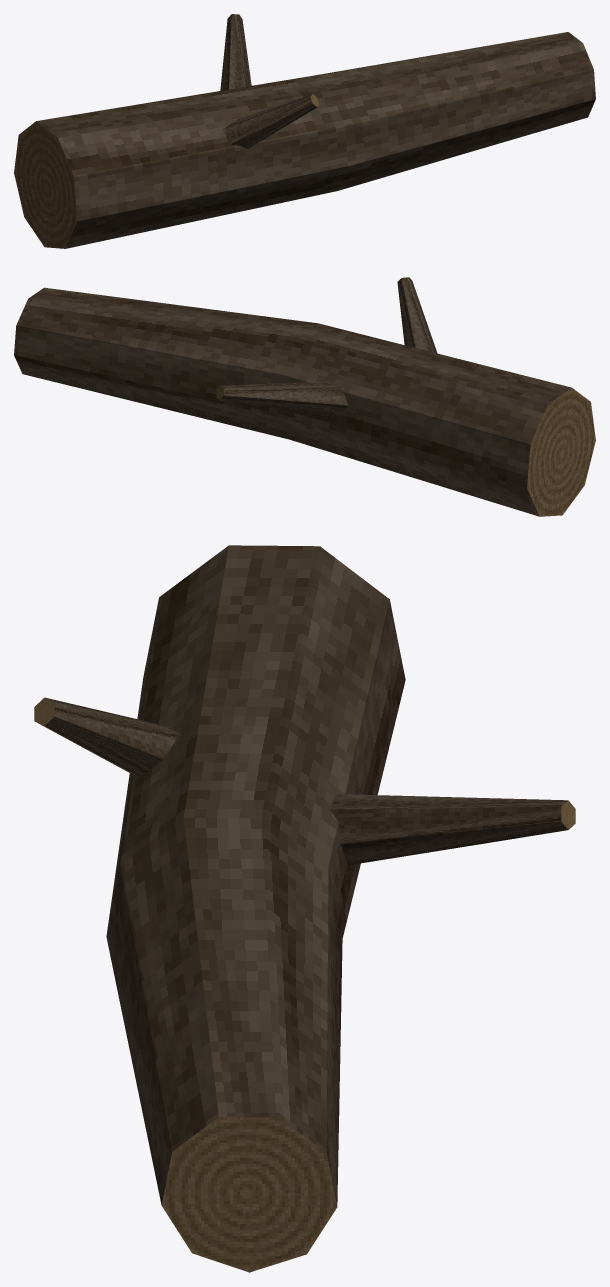
File: env_trees_10_fallen_short.glb
3 views of the same model, one above another, from view 1: azimuth 30°, elevation 25°; view 2: azimuth 150°, elevation 25°; view 3: azimuth 270°, elevation 25° (orthographic). The views are drawn at different scales.
Parts seen in each view (by area): view 1: solid; view 2: solid; view 3: solid.
Part boxes in pixels (bbox=[...]): solid: bbox=[14, 14, 595, 248]; solid: bbox=[14, 277, 595, 516]; solid: bbox=[34, 545, 575, 1272].
Bounding box in the file's own units: 1.46 × 0.3758 × 0.65.
Materials: 1 (1 with a texture image).
